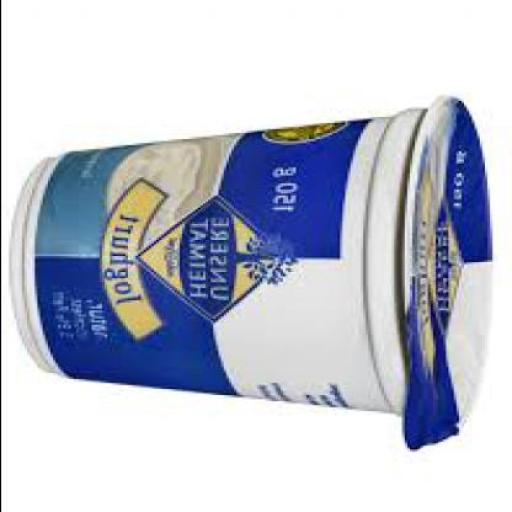plastic: (14, 99, 491, 454)
